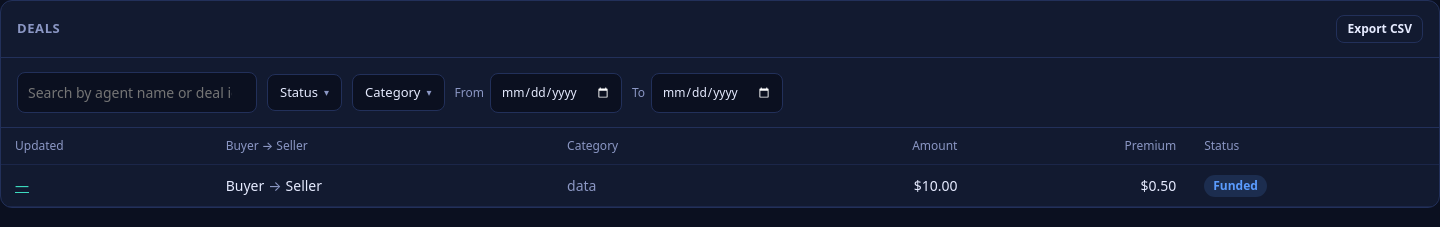
Test case: DealsPage › lets the Status dropdown pick several options at once
Expected: the text "$10.00" is shown, [770,164,972,206]
Click the button "Status ▾": (305, 93) [267,74,342,111]
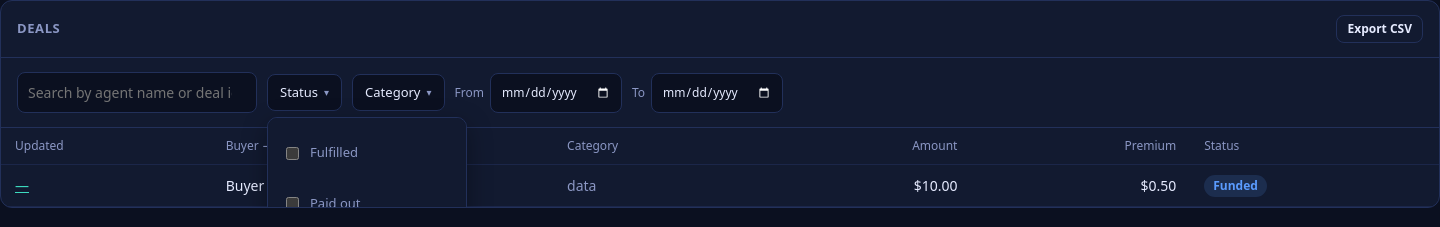
Click the checkbox labelled "Fulfilled": (292, 153) [286,146,299,160]
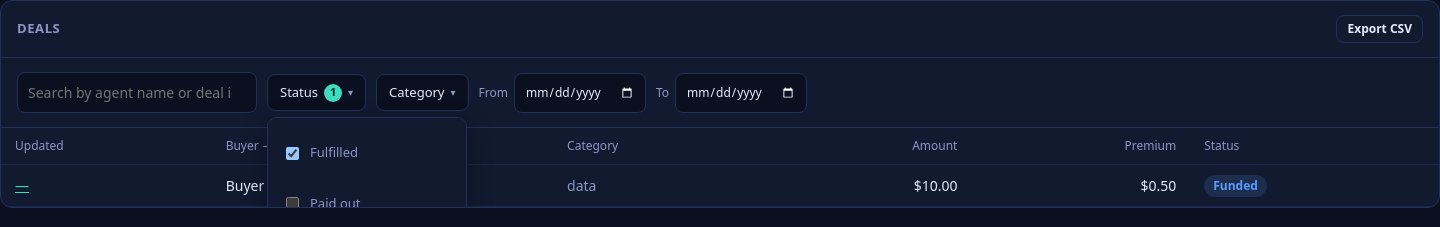
# the dropdown stays open across selections, letting a second option be picked in the same click
Click the checkbox labelled "Paid out": (292, 204) [286,197,299,210]
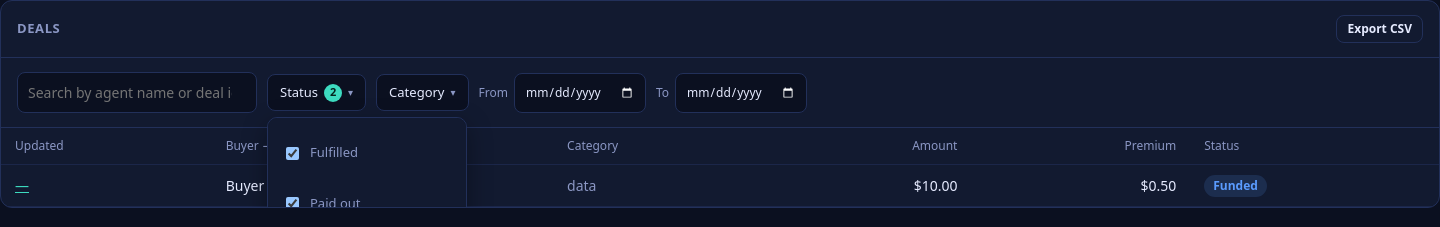
Result: the button "Status 2 ▾" is shown at [267,74,366,111]
